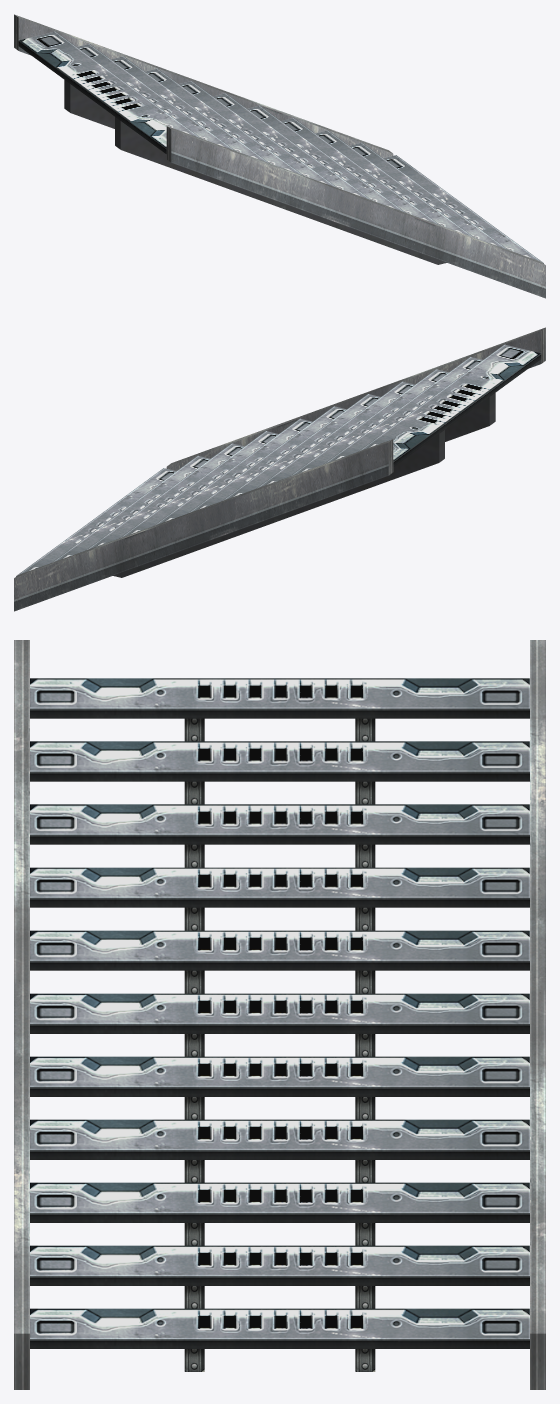
Rendered from mpr_stairs_long_complete.FBX.
The picture shows the model from 3 angles, top to bottom: view 1: azimuth 30°, elevation 25°; view 2: azimuth 150°, elevation 25°; view 3: azimuth 270°, elevation 25°; orthographic projection. The views are drawn at different scales.
Parts seen in each view (by area): view 1: mpr_stairs_long_complete; view 2: mpr_stairs_long_complete; view 3: mpr_stairs_long_complete.
Part boxes in pixels (left/top/right/bottom): mpr_stairs_long_complete: left=14, top=14, right=545, bottom=298; mpr_stairs_long_complete: left=14, top=327, right=545, bottom=611; mpr_stairs_long_complete: left=14, top=640, right=545, bottom=1389.
Bounding box in the file's own units: 510 × 336 × 368.
Materials: 1 (1 with a texture image).
